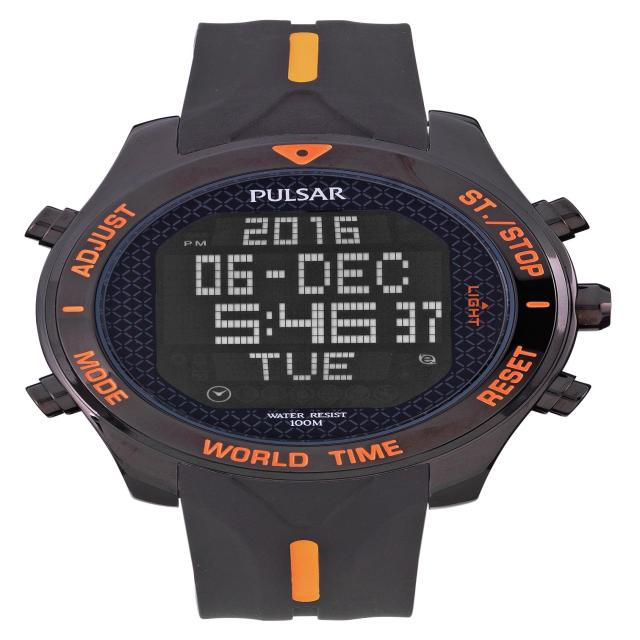watch: (26, 22, 615, 619)
